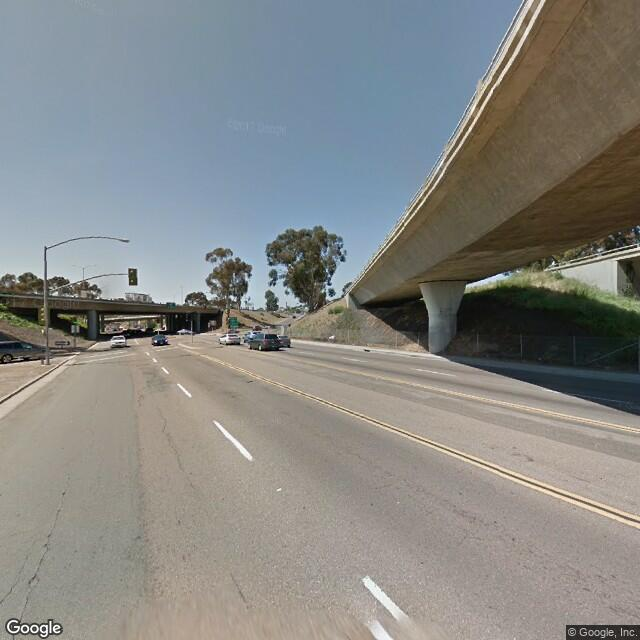litter: (328, 332, 343, 348)
